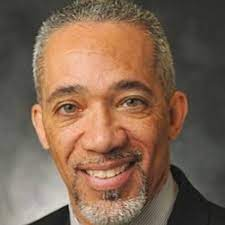person: (30, 2, 188, 225)
